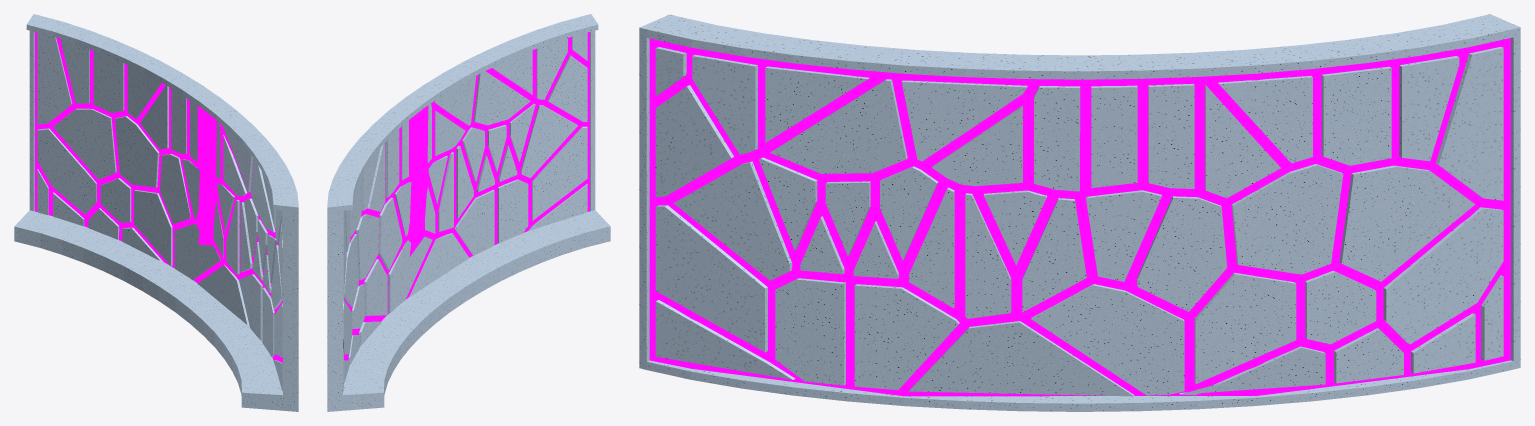
File: curved_screen.glb
3 views of the same model, side by side, from view 1: azimuth 30°, elevation 25°; view 2: azimuth 150°, elevation 25°; view 3: azimuth 270°, elevation 25° (orthographic). The views are drawn at different scales.
Visible parts, largest first — view 1: videoFframe; view 2: videoFframe; view 3: videoFframe.
Part boxes in pixels (bbox=[...]): videoFframe: bbox=[14, 14, 298, 411]; videoFframe: bbox=[327, 14, 610, 411]; videoFframe: bbox=[639, 14, 1520, 411].
Size of what is drawn, in the model's own units: 4.7 by 9.94 by 23.31.
Materials: 2 (1 with a texture image).
